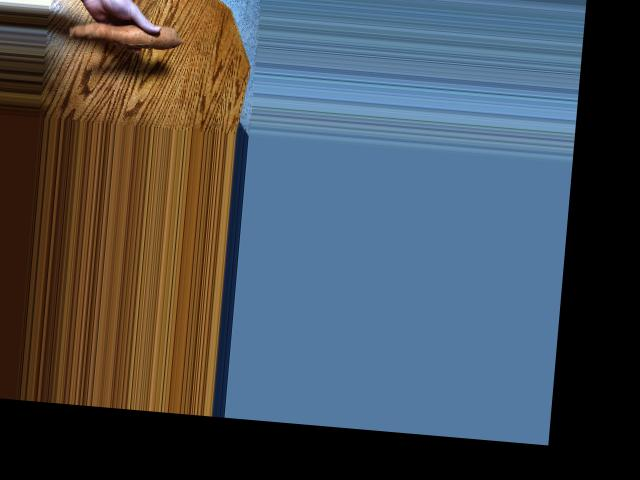sweet_potato: (67, 13, 177, 54)
